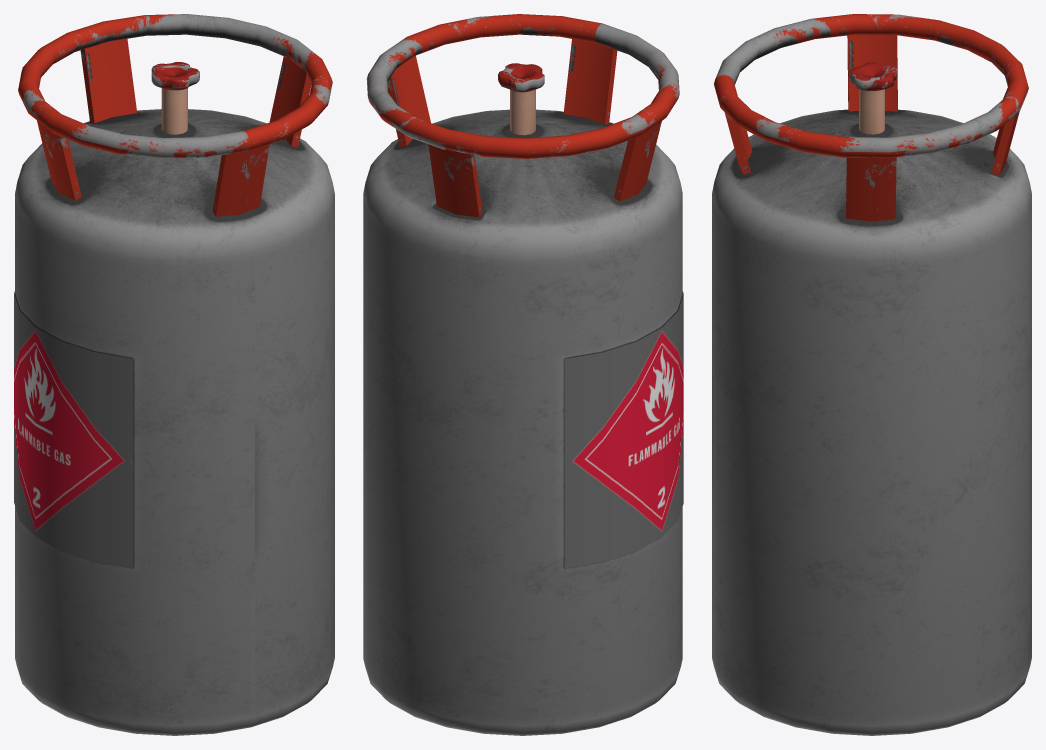
The model's file is LaBTank.fbx.
3 renders of one model, left to right at view 1: azimuth 30°, elevation 25°; view 2: azimuth 150°, elevation 25°; view 3: azimuth 270°, elevation 25°, orthographic.
Visible parts, largest first — view 1: LaBTank; view 2: LaBTank; view 3: LaBTank.
Part boxes in pixels (x1,y1,x2,y2): LaBTank: (14, 14, 334, 735); LaBTank: (363, 14, 683, 735); LaBTank: (712, 14, 1031, 735).
Size of the model in its own units: 35.47 by 73.4 by 35.37.
